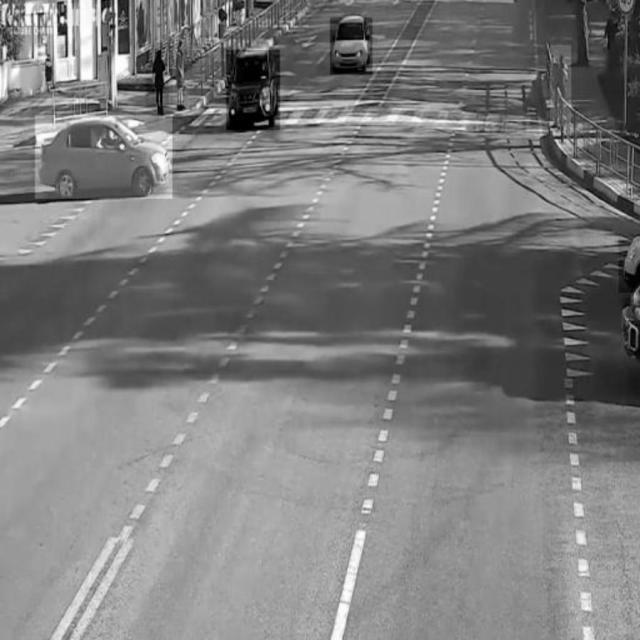person: (550, 45, 570, 126), (146, 43, 168, 110), (173, 39, 190, 106)
vehicle: (36, 116, 173, 199), (226, 51, 280, 131), (331, 18, 373, 75), (619, 237, 639, 293)
